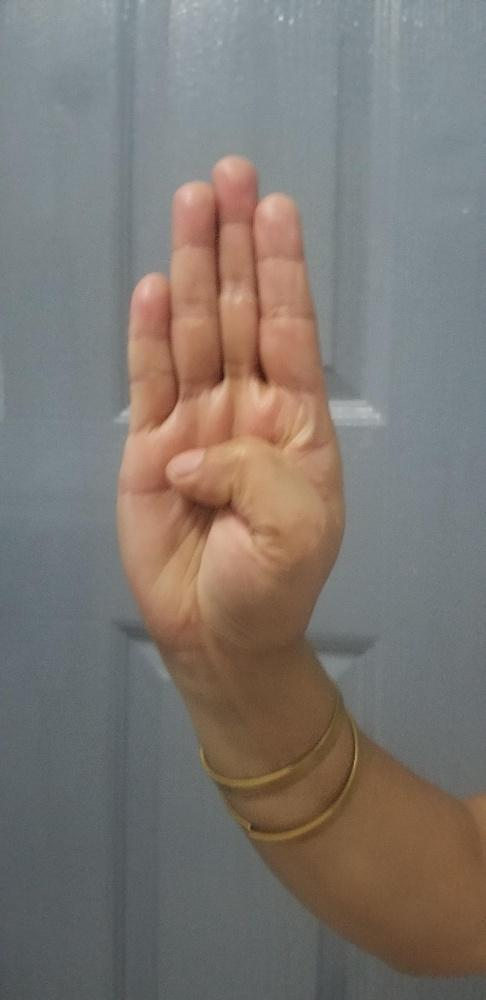b: (115, 152, 348, 649)
